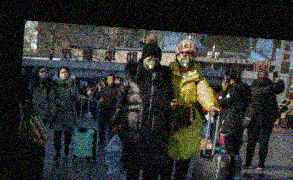with_mask: (176, 52, 195, 69), (142, 54, 159, 71), (58, 70, 69, 81), (37, 69, 48, 80)
without_mask: (105, 77, 114, 86)
